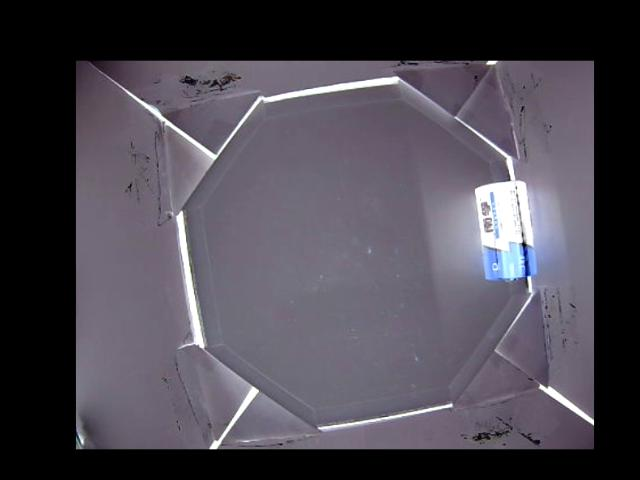Battery: (475, 179, 538, 280)
